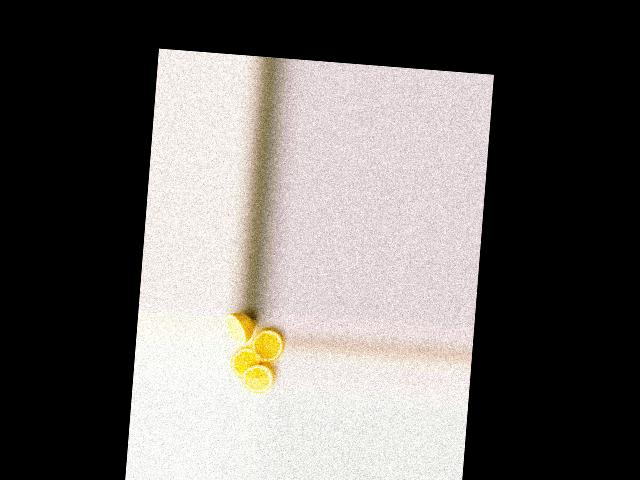lemon: (223, 309, 253, 345)
